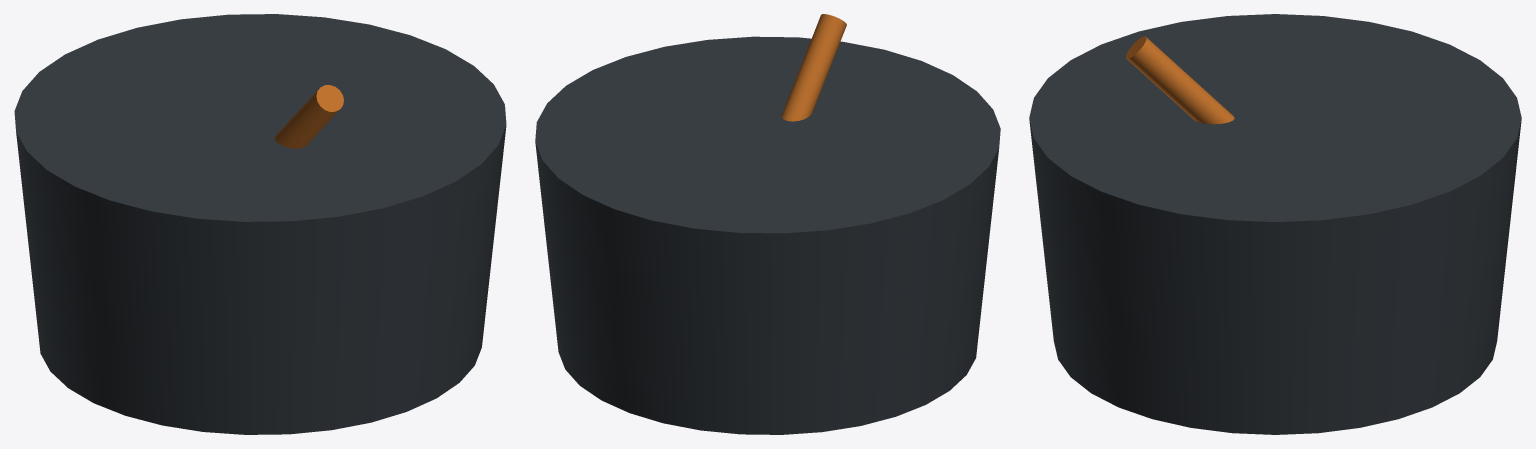
The model's file is mac_and_cheese.glb.
The picture shows the model from 3 angles, left to right: view 1: azimuth 30°, elevation 25°; view 2: azimuth 150°, elevation 25°; view 3: azimuth 270°, elevation 25°; orthographic projection. The views are drawn at different scales.
Parts seen in each view (by area): view 1: model_mac_and_cheese; view 2: model_mac_and_cheese; view 3: model_mac_and_cheese.
Boxes of the visible parts, left/top/right/bottom form: model_mac_and_cheese: left=14, top=14, right=506, bottom=434; model_mac_and_cheese: left=535, top=14, right=1000, bottom=434; model_mac_and_cheese: left=1029, top=14, right=1521, bottom=434.
Bounding box in the file's own units: 4 × 2.72 × 4.
